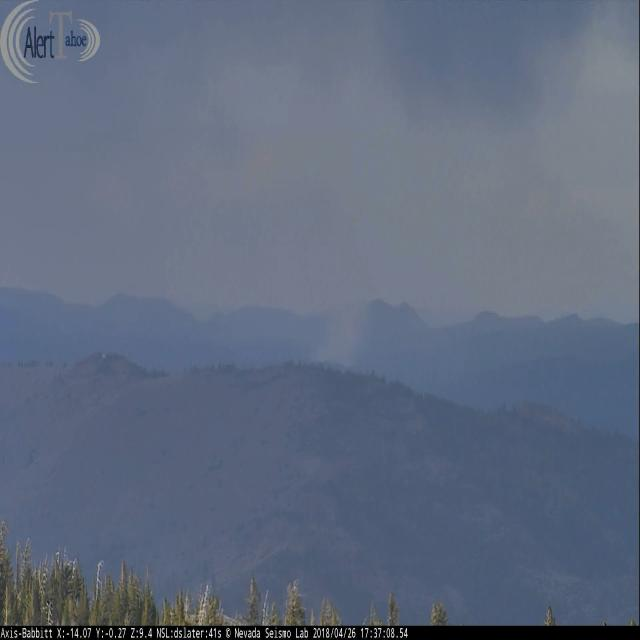smoke: (319, 294, 362, 367)
